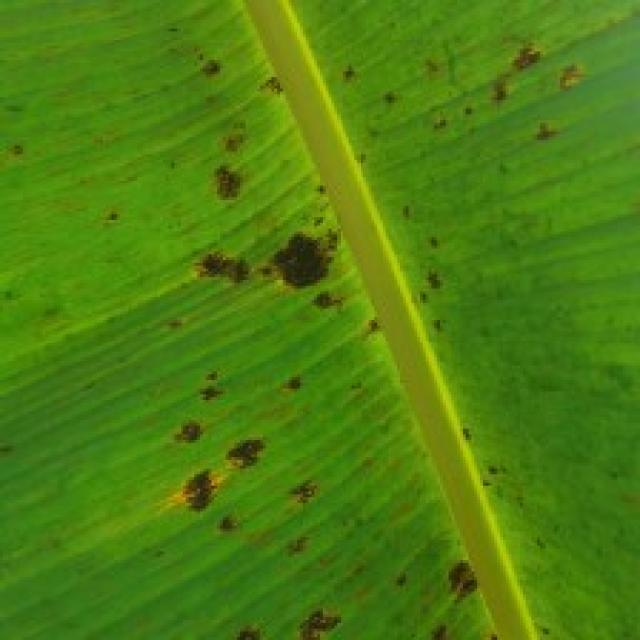Downey_mildrew: (125, 9, 612, 640)
